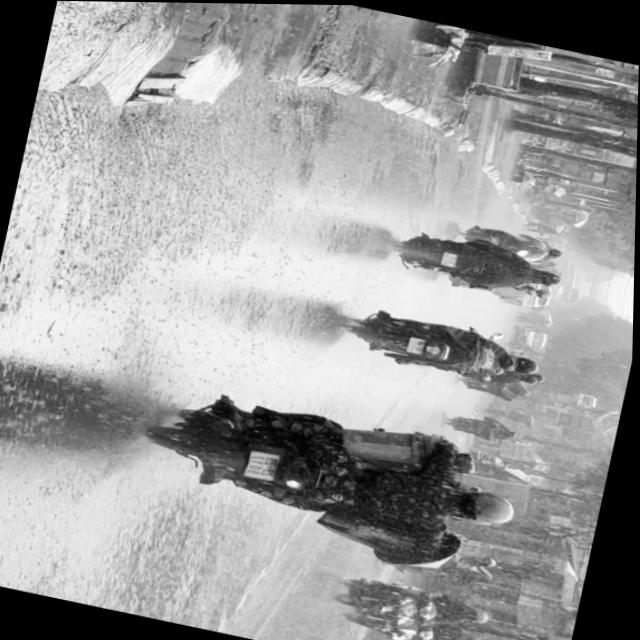helmet: (455, 484, 521, 530), (511, 354, 542, 376), (533, 267, 565, 287)
licenseplate: (133, 374, 537, 574), (337, 299, 549, 394), (390, 224, 571, 304)
nohelmet: (248, 450, 282, 481), (408, 335, 428, 354), (442, 251, 459, 267)
